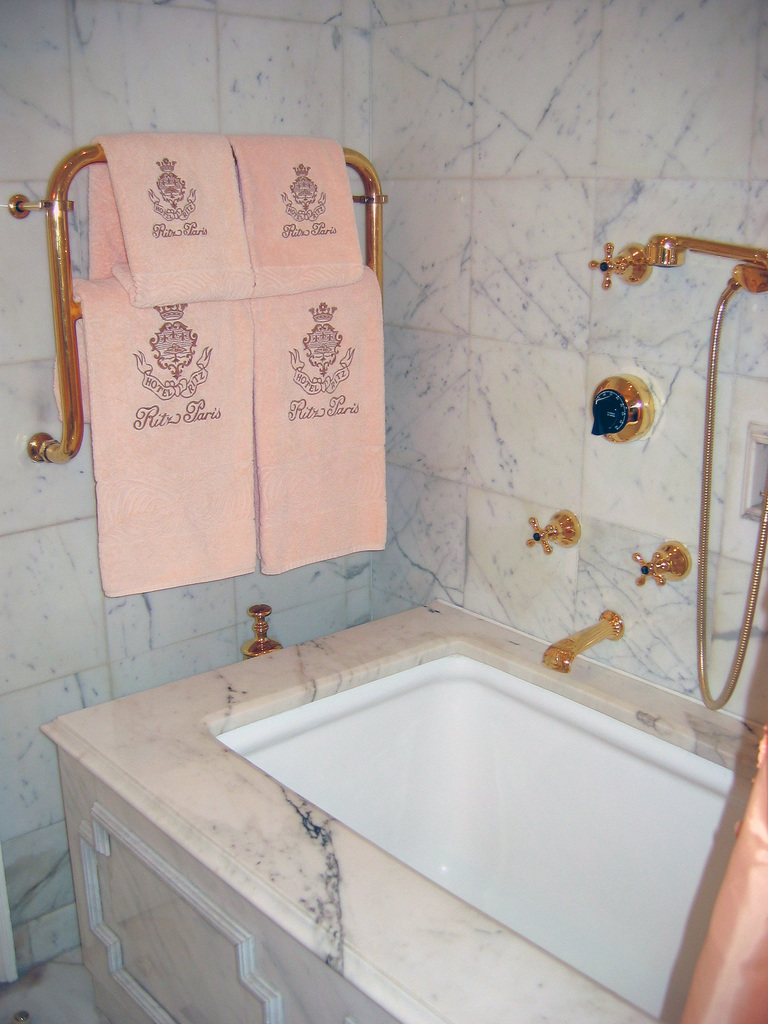tap: (552, 609, 661, 680)
